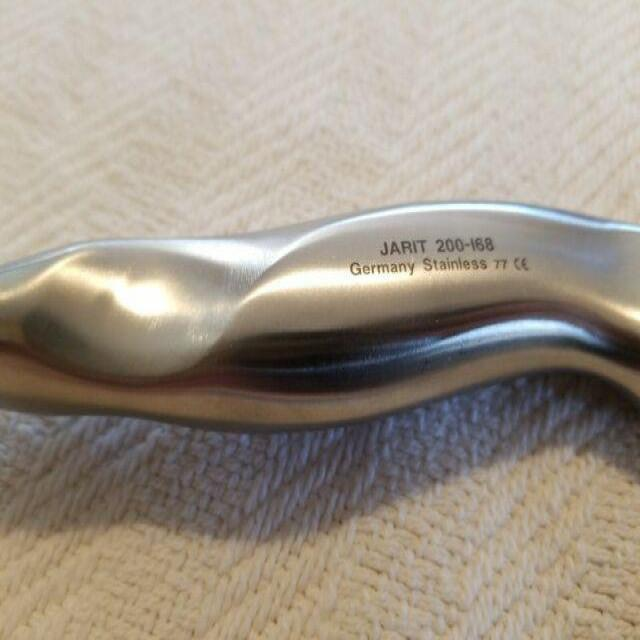Richardson: (6, 189, 640, 443)
